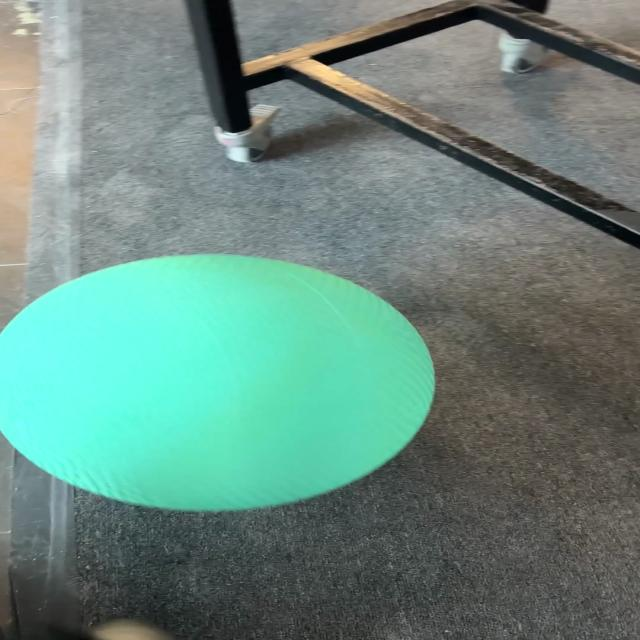Algae: (1, 252, 437, 512)
